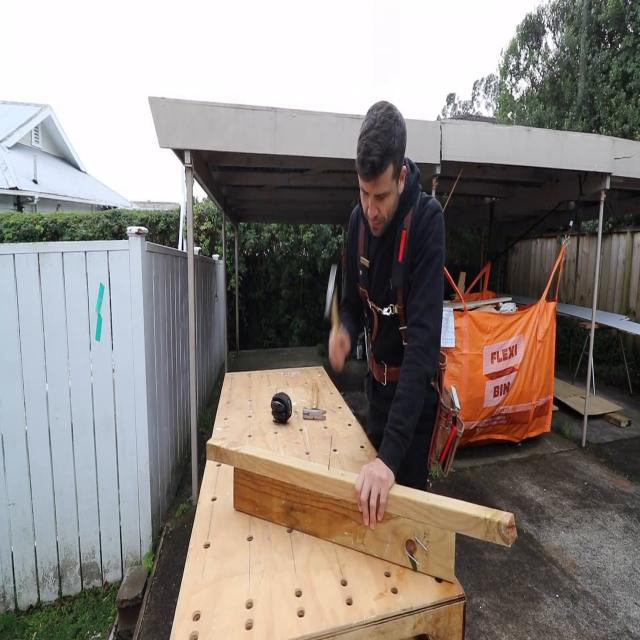hammer: (324, 264, 340, 344), (303, 380, 326, 424)
